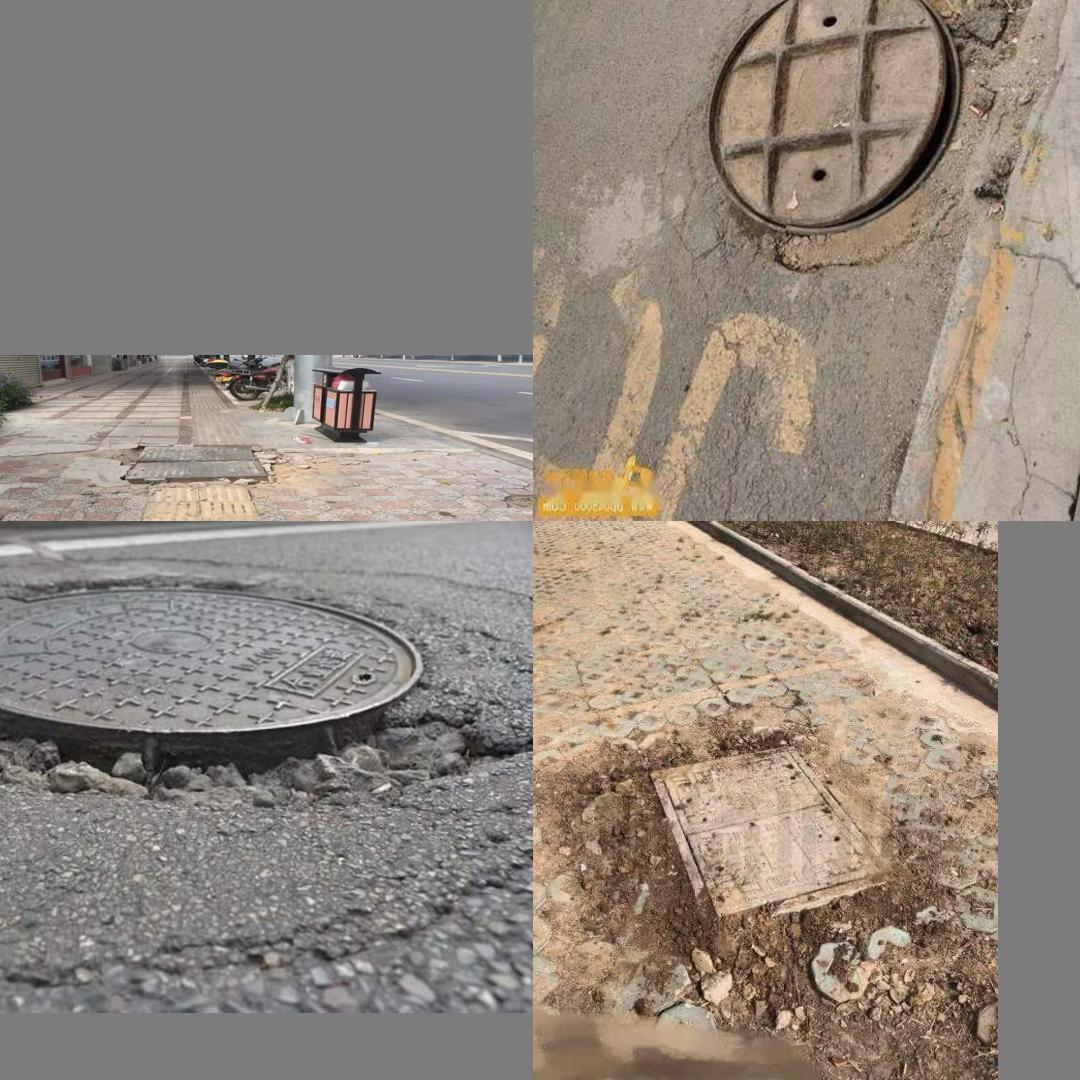circle: (0, 569, 519, 834), (682, 0, 1064, 314), (628, 740, 912, 949), (95, 434, 310, 502)
